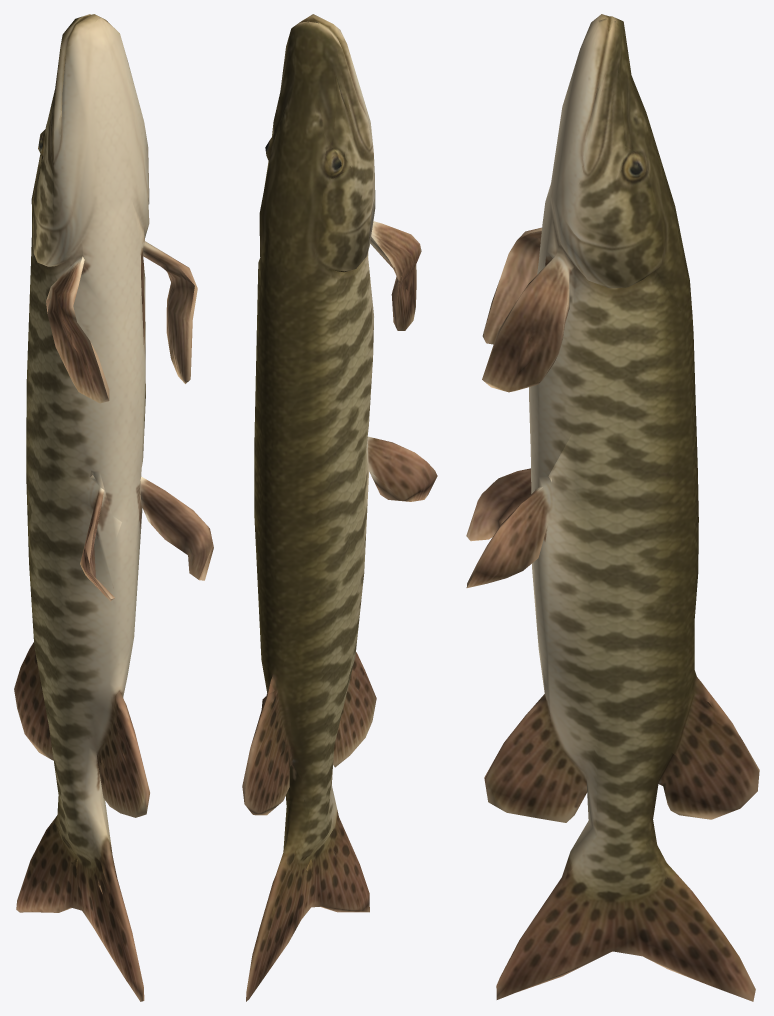
File: muskellunge.glb
3 views of the same model, side by side, from view 1: azimuth 30°, elevation 25°; view 2: azimuth 150°, elevation 25°; view 3: azimuth 270°, elevation 25° (orthographic). The views are drawn at different scales.
Visible parts, largest first — view 1: FishMuskellunge; view 2: FishMuskellunge; view 3: FishMuskellunge.
Boxes of the visible parts, left/top/right/bottom form: FishMuskellunge: left=14, top=14, right=213, bottom=1001; FishMuskellunge: left=242, top=14, right=437, bottom=1001; FishMuskellunge: left=466, top=14, right=759, bottom=1001.
Size of the model in its own units: 0.2396 by 1.7 by 0.4594.
1 material, 1 textured.
